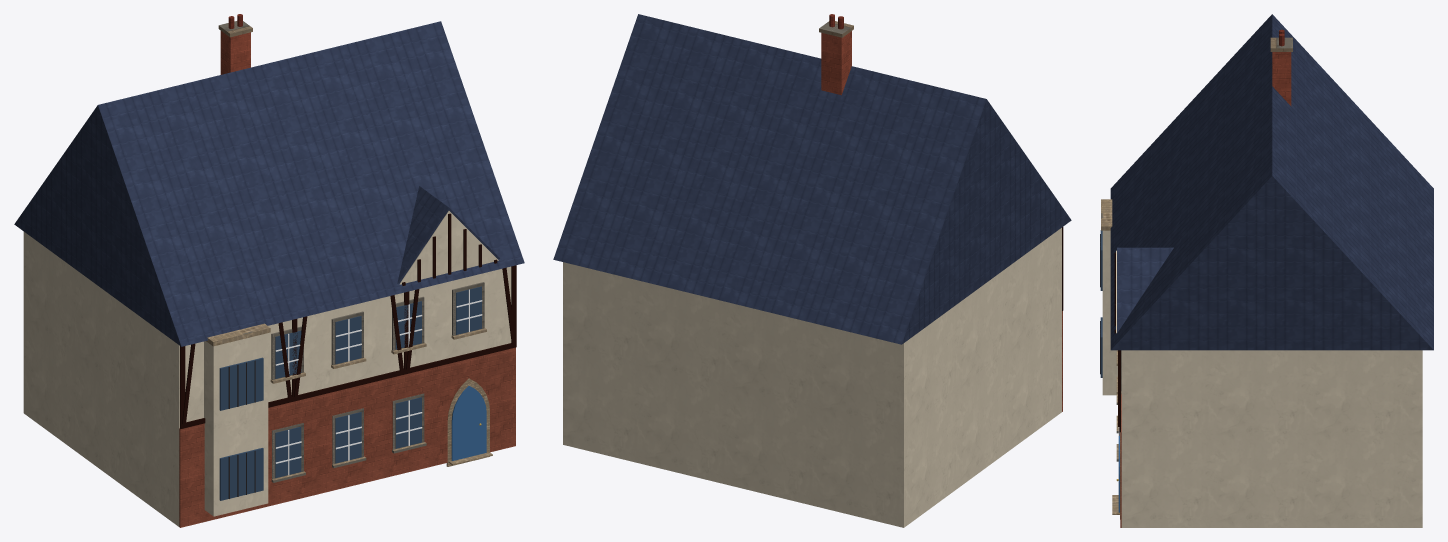
The model's file is tudor_w12_0.gltf.
3 renders of one model, left to right at view 1: azimuth 30°, elevation 25°; view 2: azimuth 150°, elevation 25°; view 3: azimuth 270°, elevation 25°, orthographic. The views are drawn at different scales.
Parts seen in each view (by area): view 1: tudor_w12_0; view 2: tudor_w12_0; view 3: tudor_w12_0.
Boxes of the visible parts, box(x1,y1,x2,y2) form: tudor_w12_0: box(14, 14, 524, 527); tudor_w12_0: box(553, 14, 1071, 527); tudor_w12_0: box(1100, 14, 1433, 527).
Size of what is drawn, in the model's own units: 11.96 by 14.01 by 10.43.
8 materials, 5 textured.
